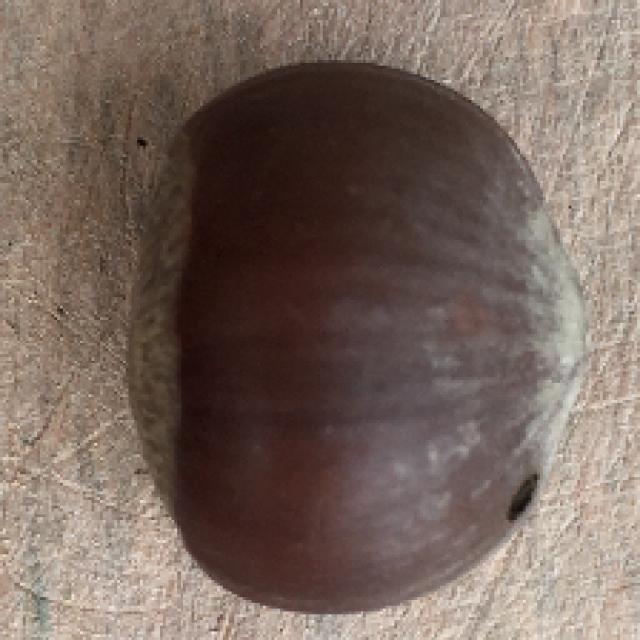damagedHazelnut: (132, 57, 595, 618)
